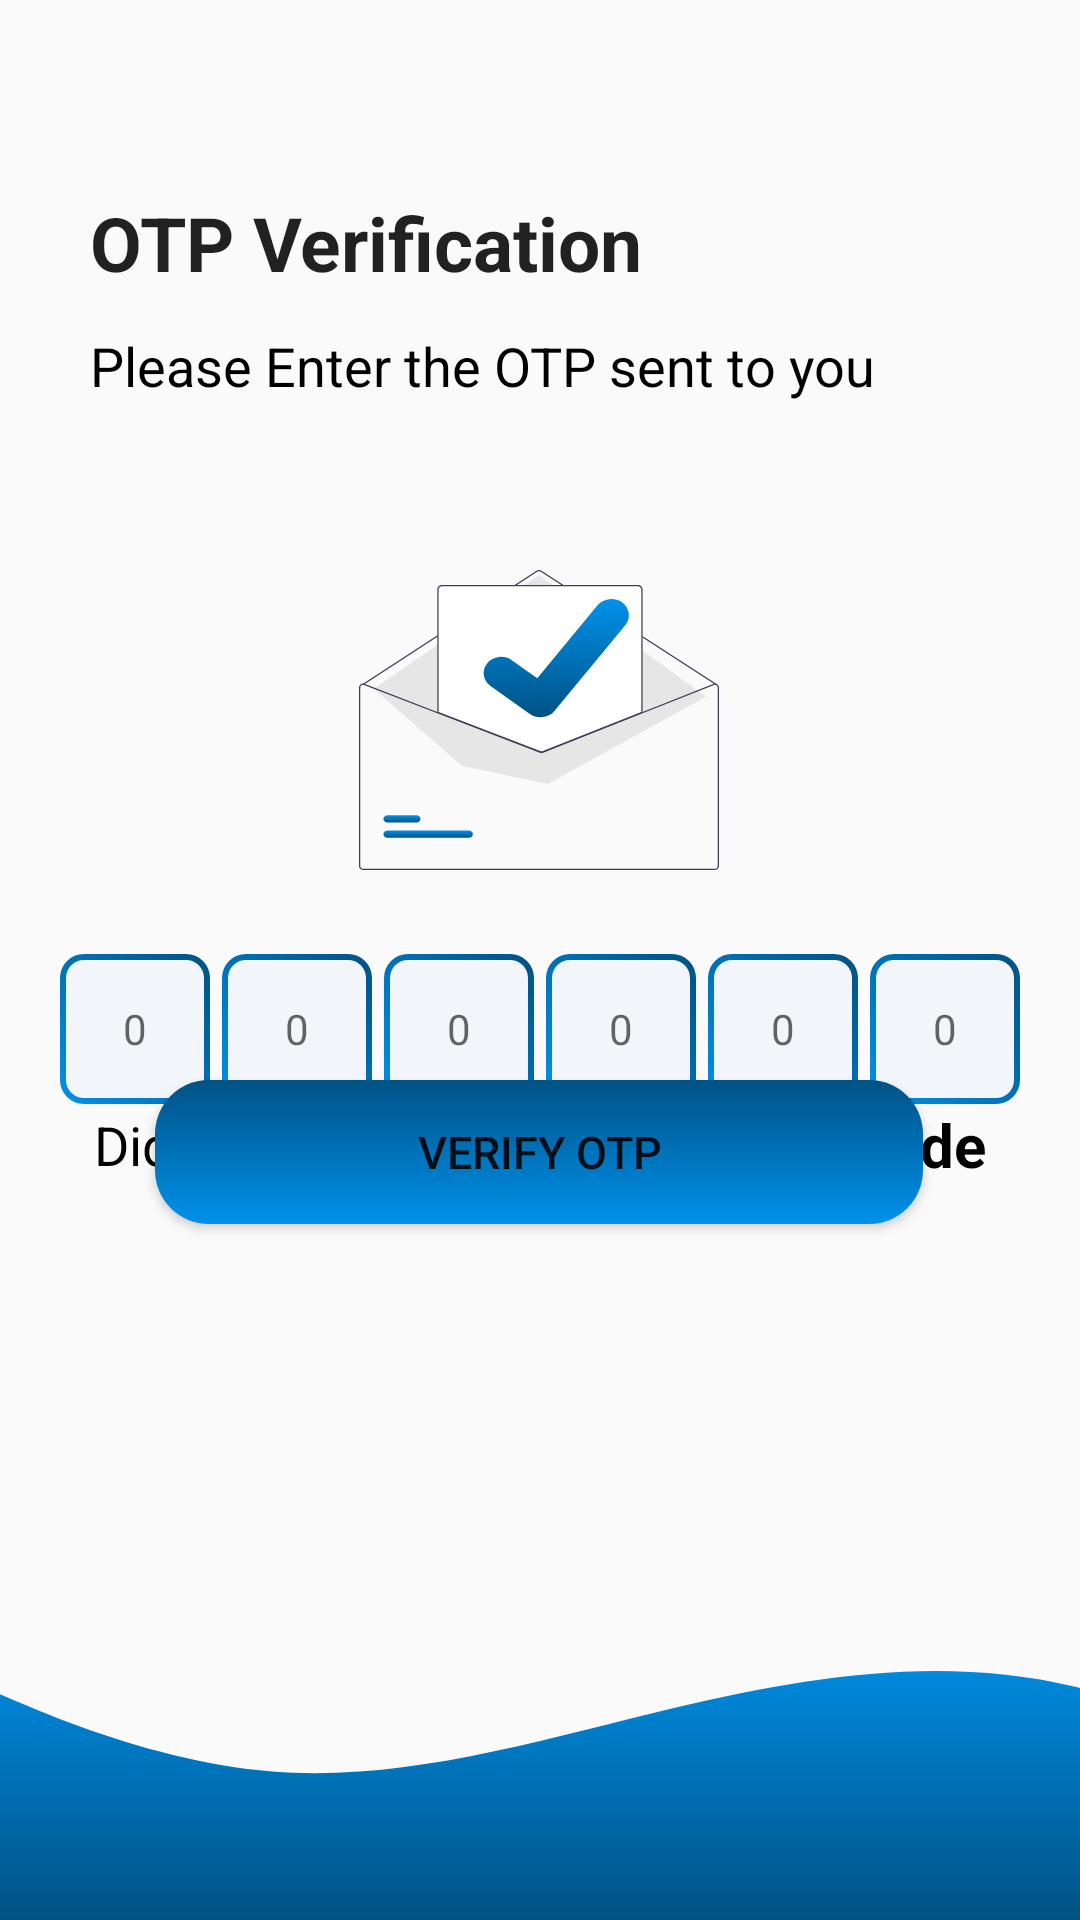

Icons on this 1080*1920 Android screen, each with its box as (x1=x1, y1=y1, x2=x2, y2=y2):
otpsvg: (x1=359, y1=570, x2=719, y2=870)
